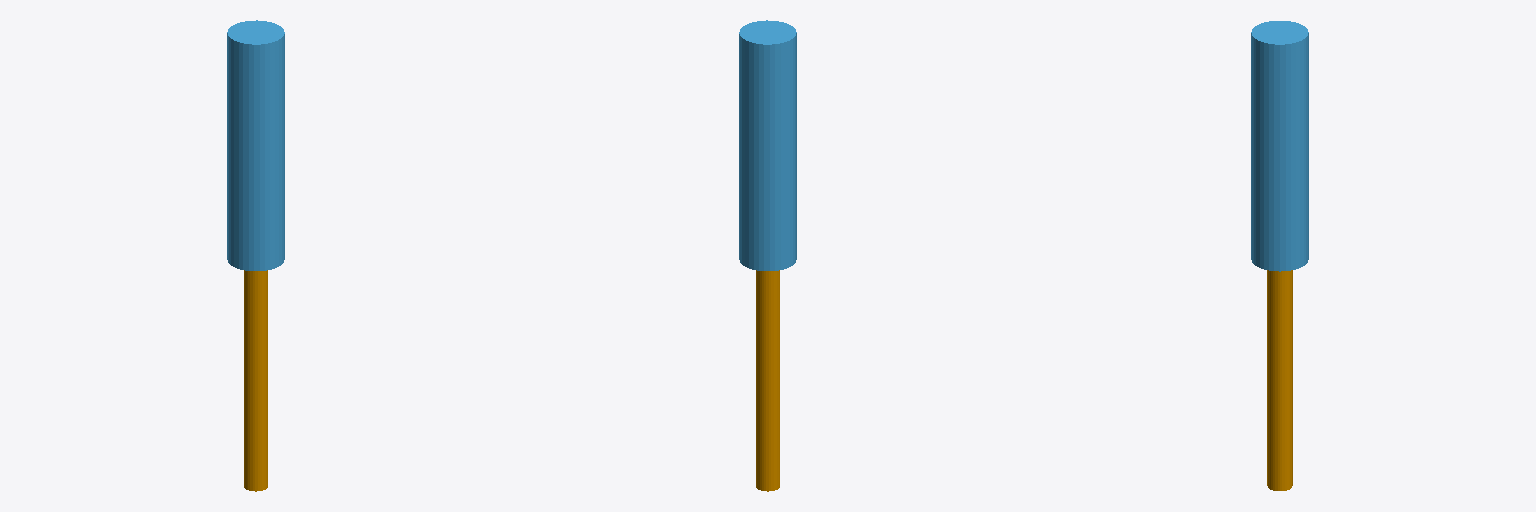
robot.urdf — screwdriver_on_the_table:
<?xml version="1.0" ?>
<!-- this is the one without any virtual joints and links -->
<robot name="screwdriver_on_the_table">
<link name="screwdriver_stick">
    <inertial>
      <mass value="0.05"/>
      <!-- <friction value="1.0"/> -->
      <inertia ixx="0.000041979" ixy="0.0" ixz="0.0" iyy="0.000041979" iyz="0.0" izz="0.000000625"/>
    </inertial>
    <visual>
        <origin rpy="0 0 0" xyz="0 0 0.05"/>
        <geometry>
            <cylinder radius="0.005" length="0.1"/>
        </geometry>
        <!-- <material name="White">
	 	    <color rgba="0.9 0.9 0.9 0.5"/>
        </material> -->
    </visual>
    <collision>
        <origin rpy="0 0 0" xyz="0 0 0.05"/>
        <geometry>
            <cylinder radius="0.005" length="0.1"/>
        </geometry>
    </collision>
</link>

<gazebo reference="screwdriver_body">
    <mu1>1.268996</mu1>
    <mu2>0.528492</mu2>
    <!-- Isaac Sim maps mu1/mu2 to PhysX static/dynamic friction during URDF→USD import -->
</gazebo>

<joint name="screwdriver_stick_body_joint" type="fixed">
    <parent link="screwdriver_stick"/>
    <child link="screwdriver_body"/>
    <origin rpy="0 0 0" xyz="0 0 0.1"/> 
    <axis xyz="0 0 1"/>
</joint>

<link name="screwdriver_body">
    <inertial>
      <mass value="0.167693"/>
      <inertia ixx="0.000145244" ixy="0.0" ixz="0.0" iyy="0.000145244" iyz="0.0" izz="0.000011000"/>
    </inertial>
    <visual>
        <origin rpy="0 0 0" xyz="0 0 0.05"/>
        <geometry>
            <cylinder radius="0.011454" length="0.1"/>
        </geometry>
        <!-- <material name="Red1">
	 	    <color rgba="0.9 0. 0. 0.5"/>
        </material> -->
    </visual>
    <collision>
        <origin rpy="0 0 0" xyz="0 0 0.05"/>
        <geometry>
            <cylinder radius="0.011454" length="0.1"/>
        </geometry>
    </collision>
</link>

<!-- <joint name="screwdriver_body_cap_joint" type="revolute">
    <parent link="screwdriver_body"/>
    <child link="screwdriver_cap"/>
    <origin rpy="0 0 0" xyz="0 0 0.1"/> 
    <axis xyz="0 0 1"/>
</joint>

<link name="screwdriver_cap">
    <inertial>
      <mass value="0.005"/>
      <inertia ixx="0.00001" ixy="0.0" ixz="0.0" iyy="0.000005" iyz="0.0" izz="0.000005"/>
    </inertial>
    <visual>
        <origin rpy="0 0 0" xyz="0 0 0.0006"/>
        <geometry>
            <cylinder radius="0.02" length="0.001"/>
        </geometry>
        <material name="Yellow">
	 	    <color rgba="0.9 0.9 0. 1.0"/>
        </material>
    </visual>
    <collision>
        <origin rpy="0 0 0" xyz="0 0 0.0005"/>
        <geometry>
            <cylinder radius="0.02" length="0.001"/>
        </geometry>
    </collision>
</link> -->

</robot>

--- Facts derived from the render (not from the file) ---
Views: 3 orthographic renders of the robot side by side, from view 1: azimuth 30°, elevation 25°; view 2: azimuth 150°, elevation 25°; view 3: azimuth 270°, elevation 25°.
Robot: screwdriver_on_the_table — 2 links, 1 joints (1 fixed); root link screwdriver_stick; default pose: all joints at 0.
Links seen in each view (by area): view 1: screwdriver_body, screwdriver_stick; view 2: screwdriver_body, screwdriver_stick; view 3: screwdriver_body, screwdriver_stick.
Link boxes in pixels (left/top/right/bottom): screwdriver_body: left=227, top=20, right=284, bottom=270; screwdriver_stick: left=244, top=270, right=267, bottom=491; screwdriver_body: left=739, top=20, right=796, bottom=270; screwdriver_stick: left=756, top=270, right=779, bottom=491; screwdriver_body: left=1251, top=21, right=1308, bottom=271; screwdriver_stick: left=1267, top=270, right=1292, bottom=490.
Bounding box of the posed robot: 0.0229 × 0.0229 × 0.2 m (x, y, z).
Geometry: primitives only (box / cylinder / sphere), no mesh files.
